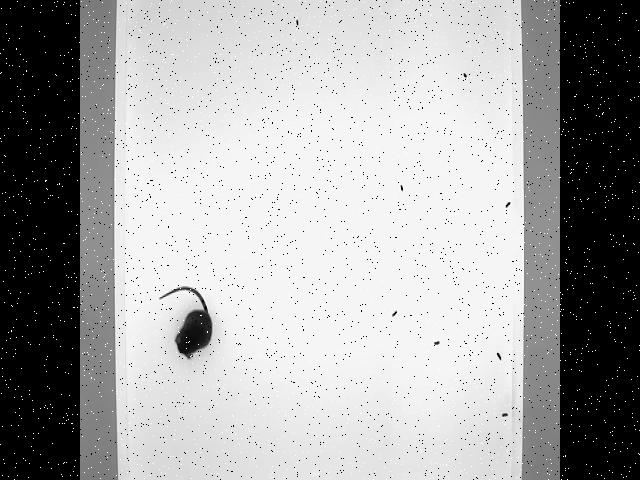Tikus: (157, 282, 213, 359)
